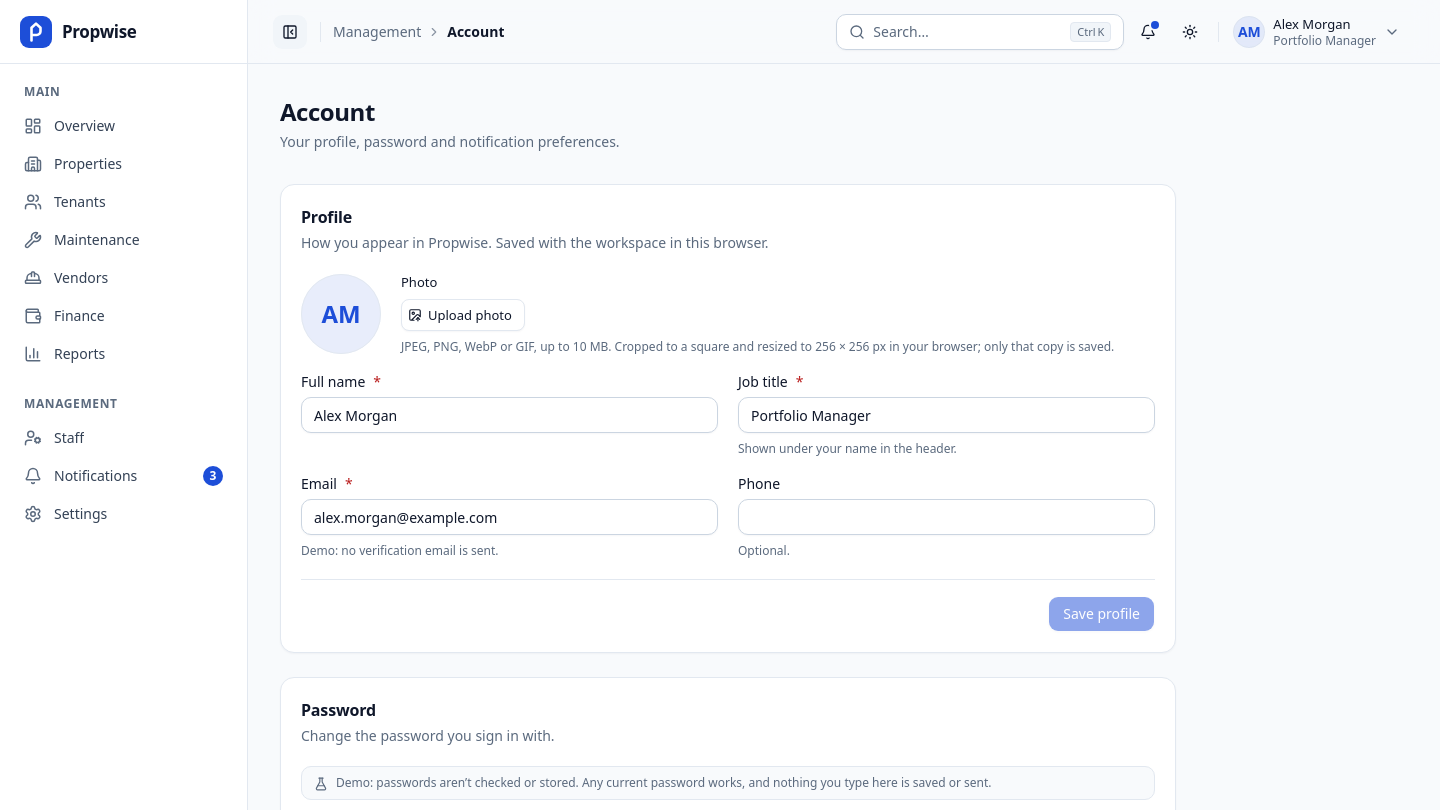
it: Account page › saves the profile and the header follows straight away
Replace the text in the field labelled "Full name *" with "Sam Lee" at (510, 415), box [301,397,718,433]
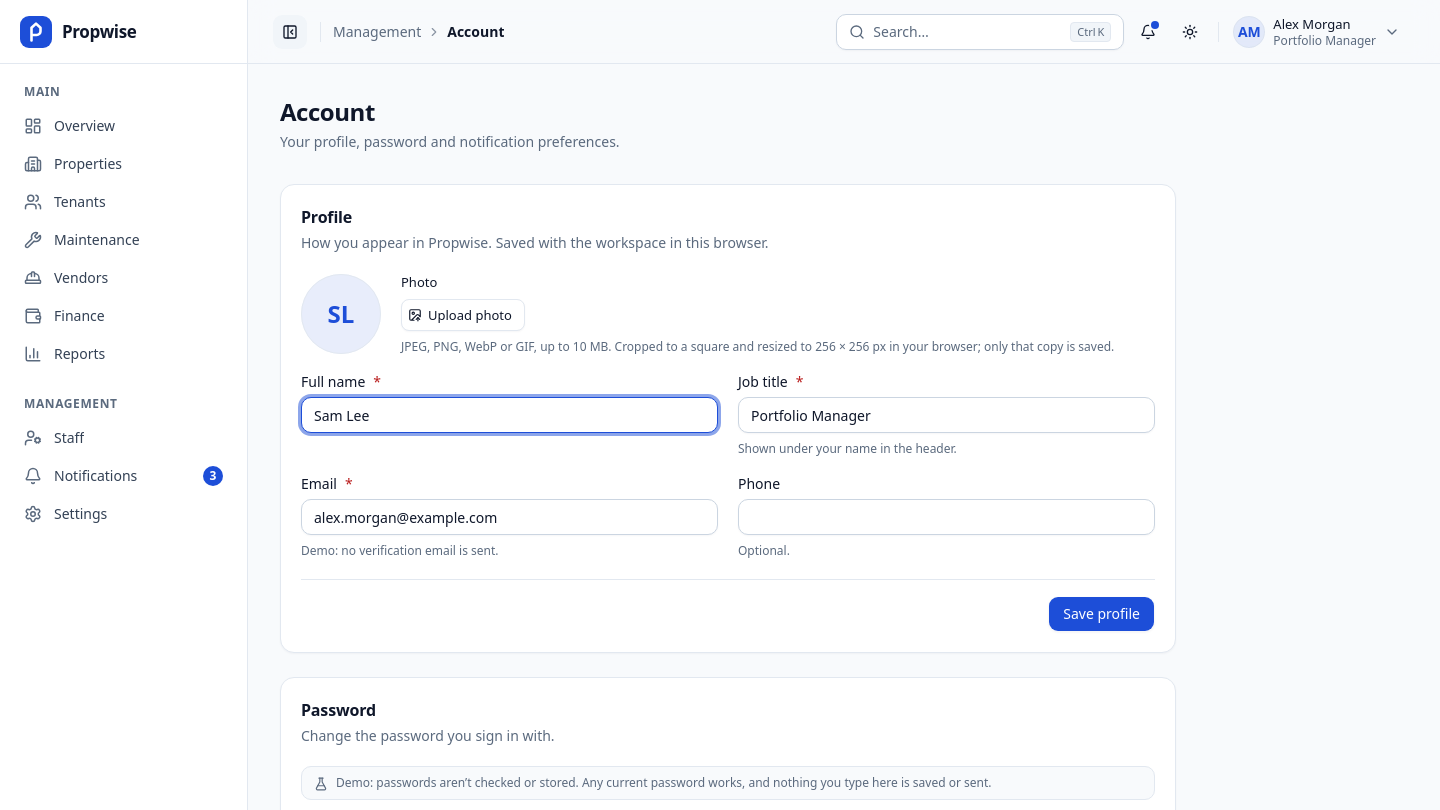
Replace the text in the field labelled "Job title *" with "Owner" at (946, 415), box [738,397,1155,433]
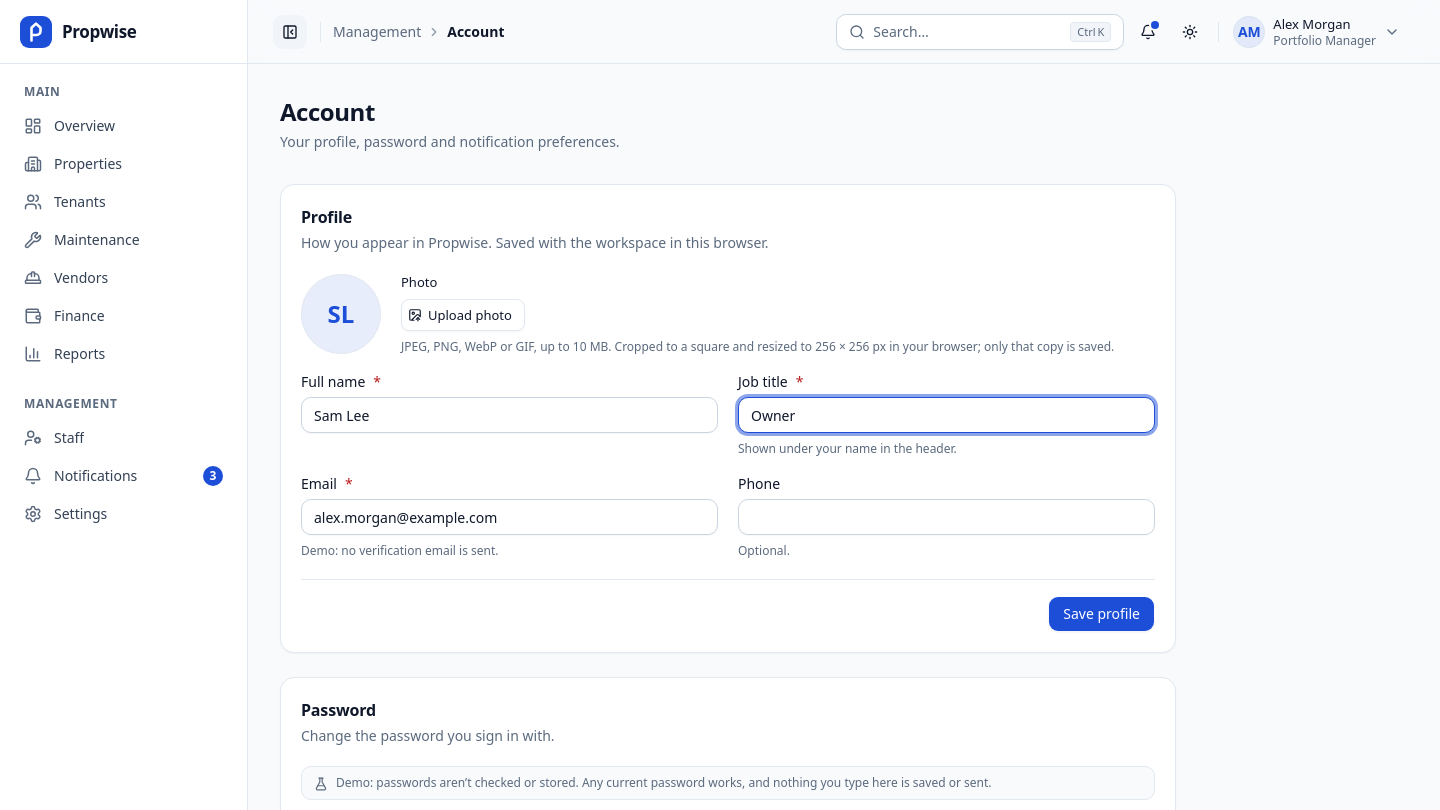
Type "(512) 555-0134" into the field labelled "Phone" at (946, 517), box [738,499,1155,535]
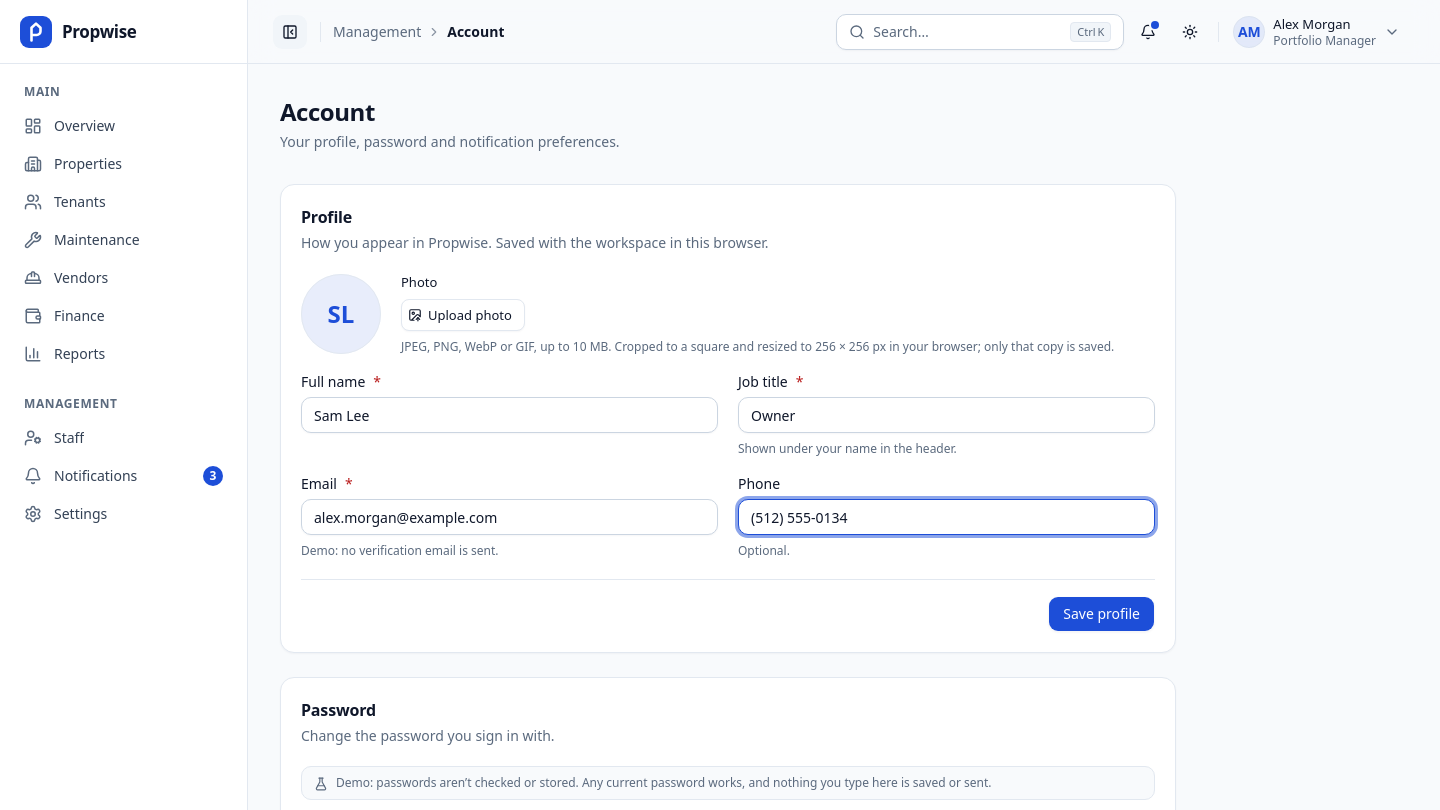
Click the button "Save profile" at (1102, 614), box [1048,596,1155,632]
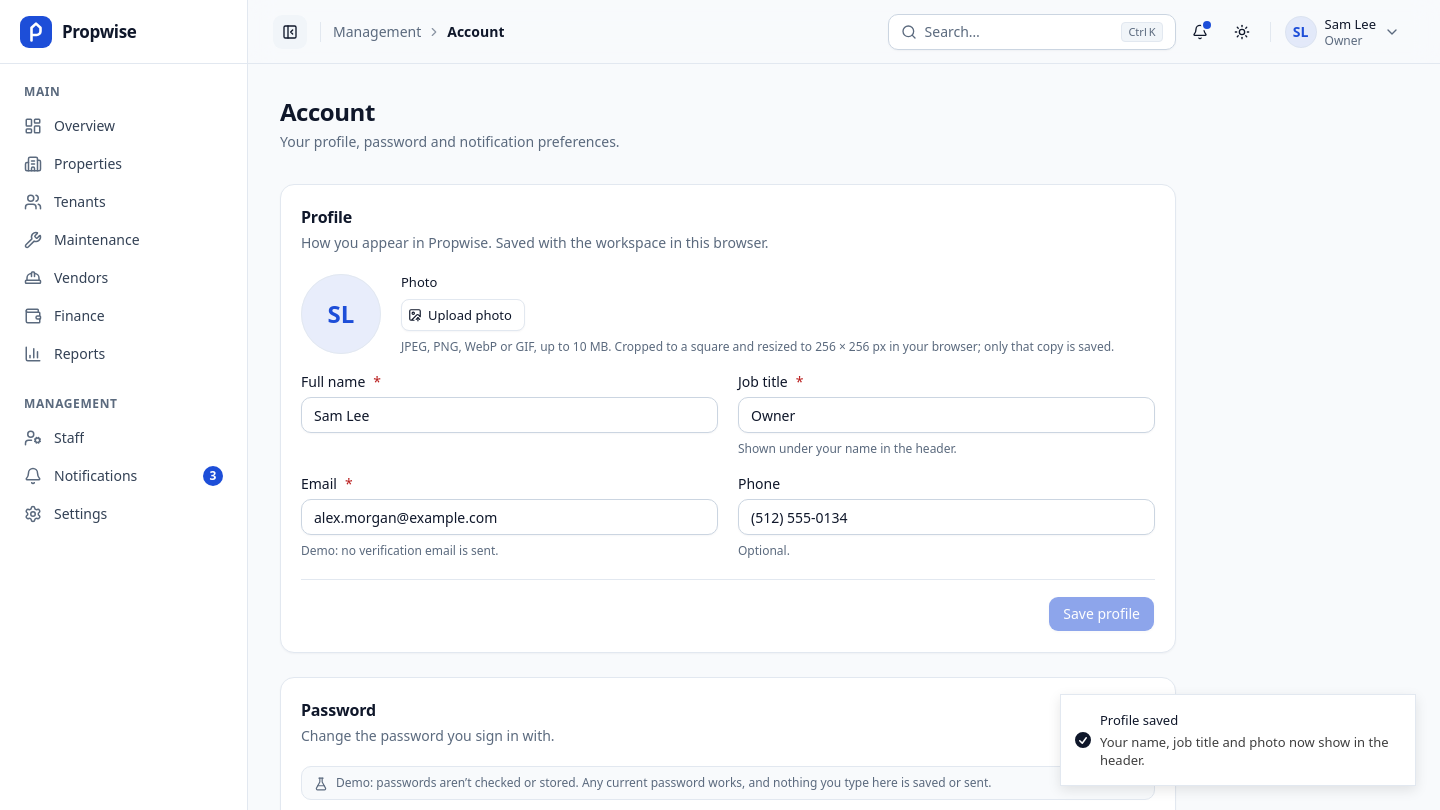
Expected: the button with aria-label "Account menu for Sam Lee" is shown, [1280,10,1408,52]
Expected: the text "Owner" is shown, [1324,32,1362,48]
Expected: the button "Save profile" is disabled, [1048,596,1155,632]
